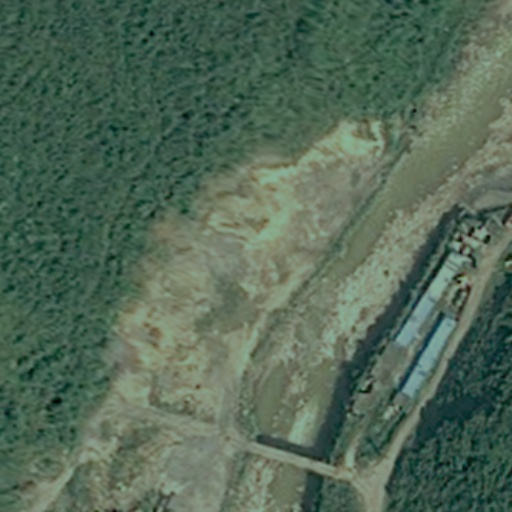landslide: (105, 120, 385, 426)
